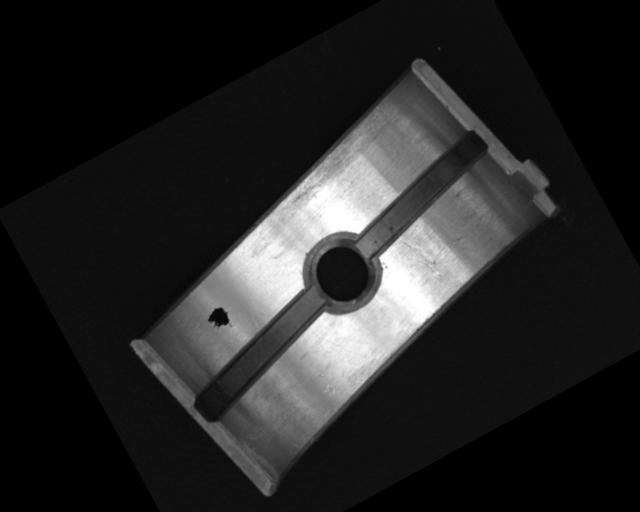blot: (202, 302, 236, 336)
bruise: (445, 231, 471, 257), (321, 380, 338, 399)
gap: (173, 282, 350, 423), (335, 127, 508, 260)
hole: (290, 219, 393, 325)
nick: (397, 226, 445, 287)
scratch: (256, 102, 408, 219)
